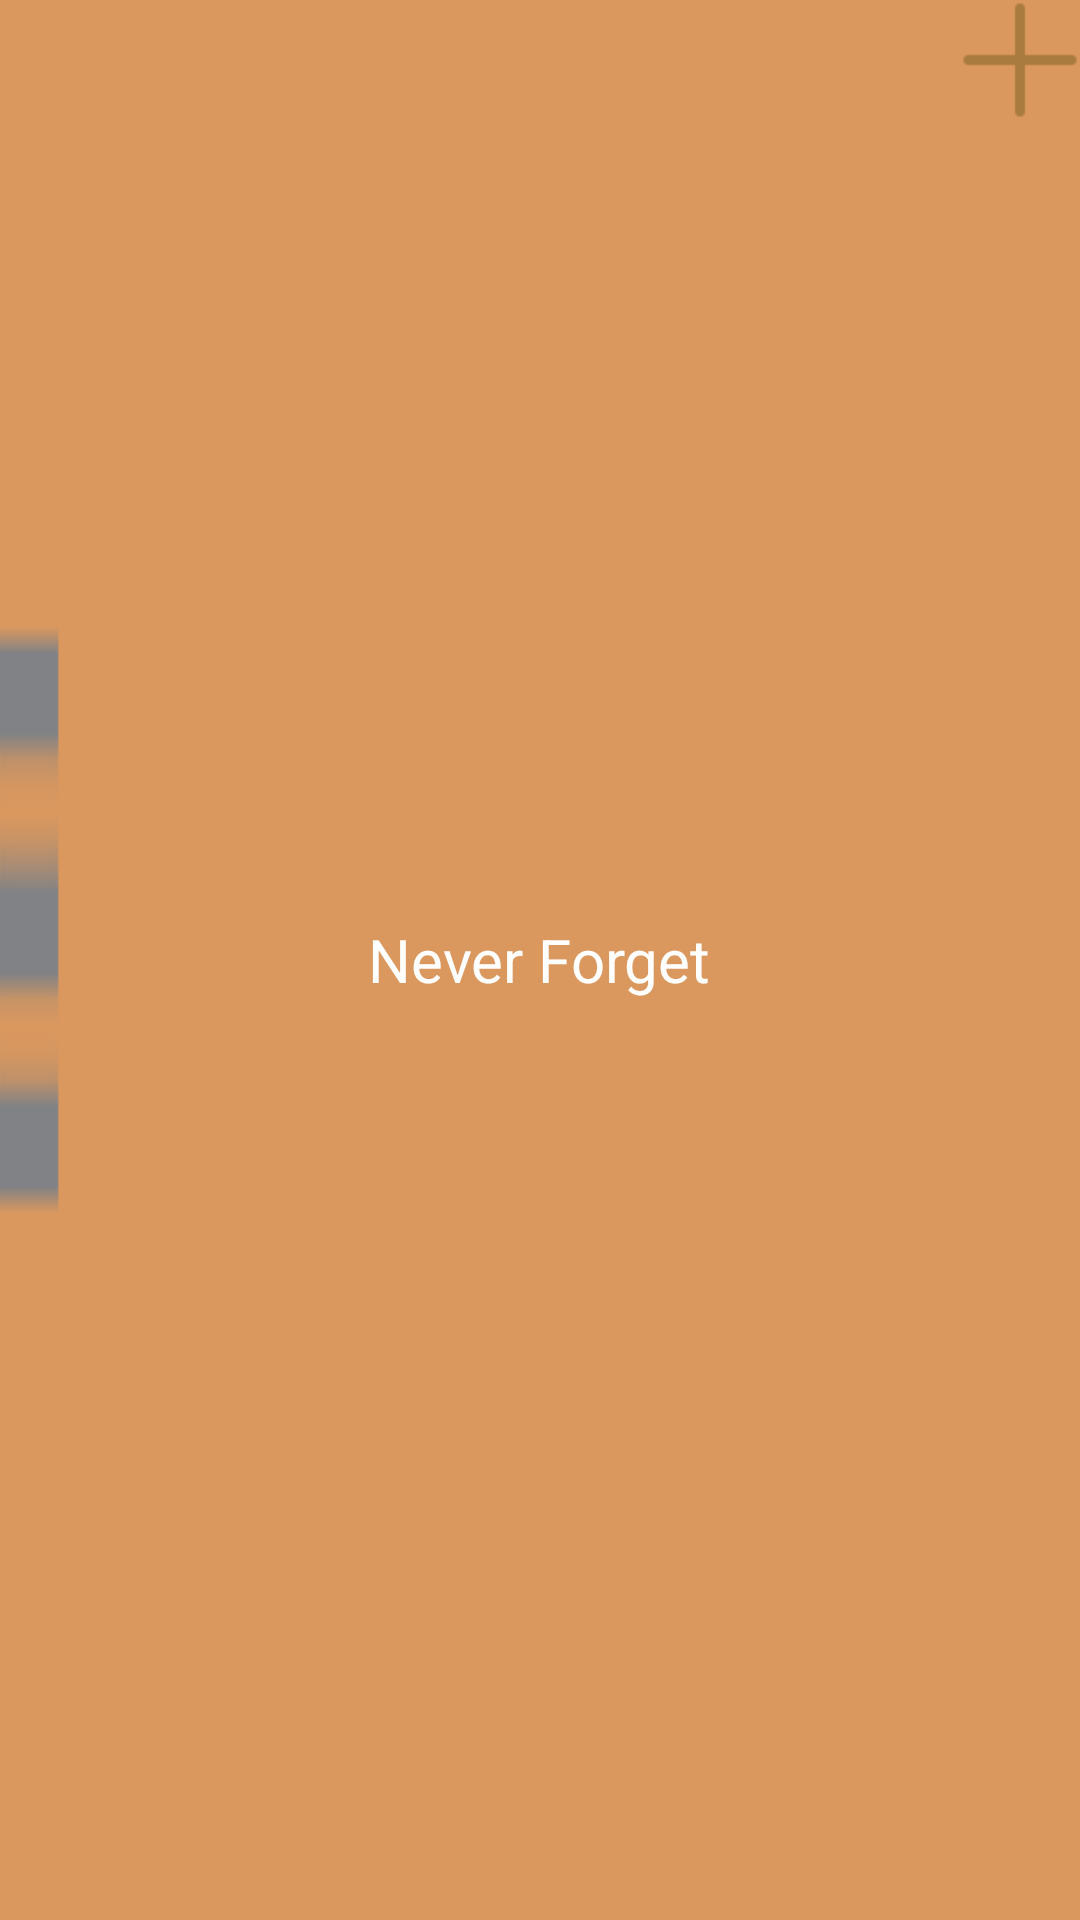

Screen size 1080w x 1920h. Icon name, then its center in pixels as point (x, y):
add: point (1020, 60)
